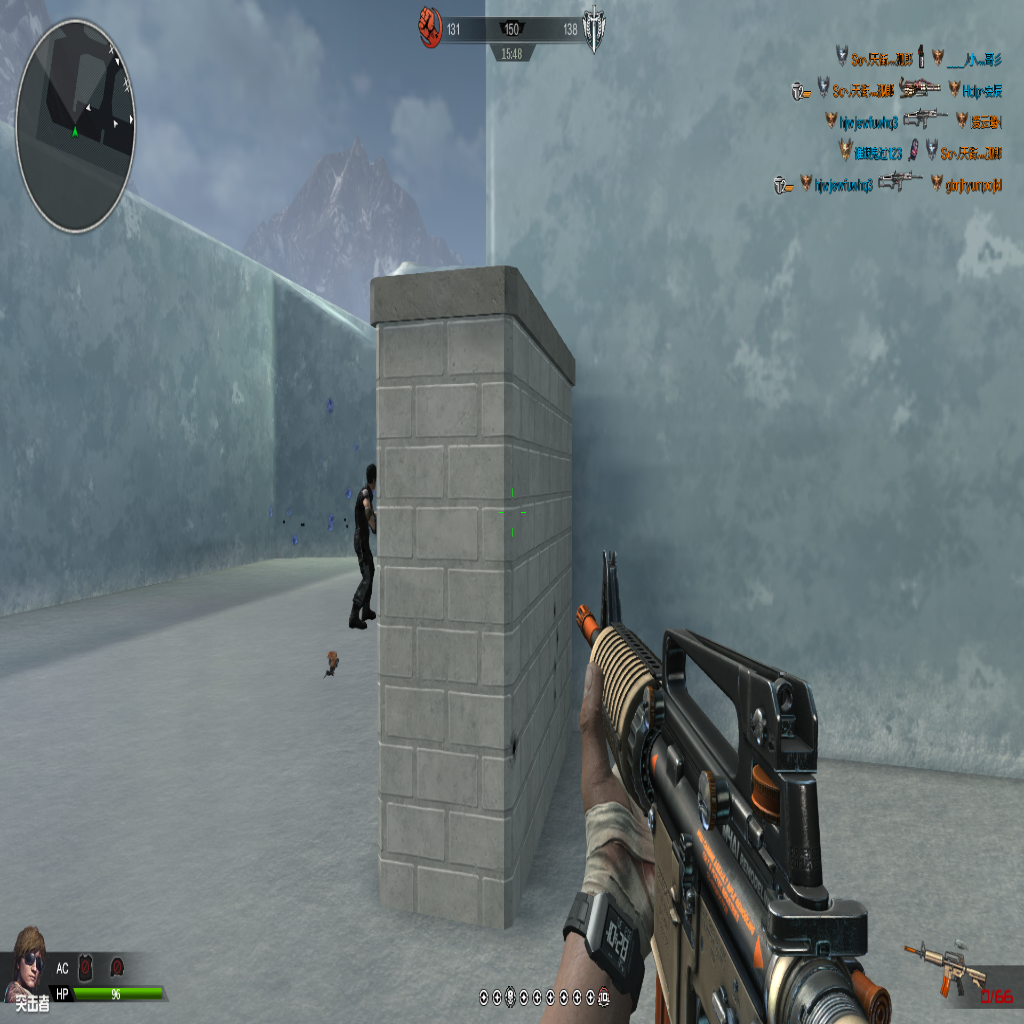ct: (351, 465, 379, 631)
